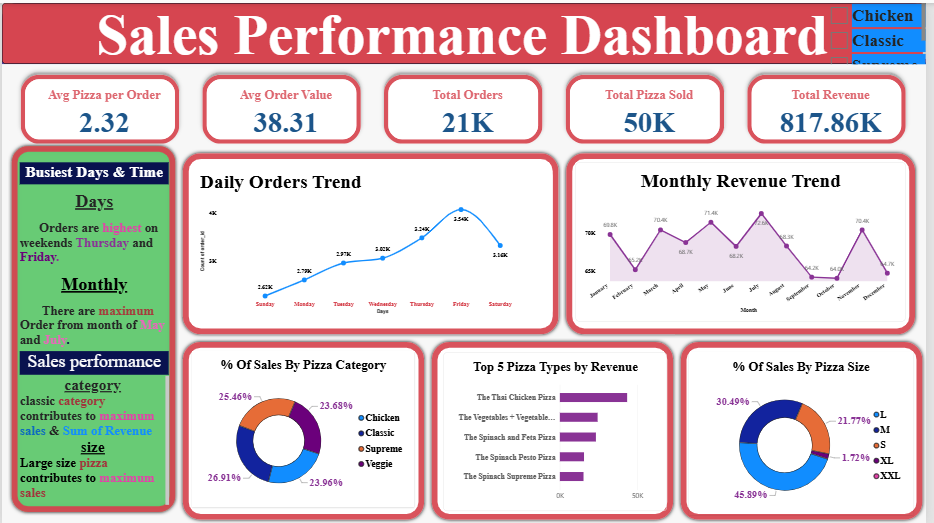

The page's visual inventory and layout, read from the dashboard file:
{"tool":"powerbi","page":{"name":"Sales Performance Dashboard","canvas":[1920,1080],"ordinal":0},"visuals":[{"type":"cardVisual","fields":{"Data":["dominos_db vw_salesperformance.Avg Pizza per Order","dominos_db vw_salesperformance.Avg Order Value","dominos_db vw_salesperformance.Total Orders","dominos_db vw_salesperformance.Total Pizza Sold","dominos_db vw_salesperformance.Total Revenue"]},"box":[0,110.5,1917.8,221.1],"z":0},{"type":"shape","box":[0,0,1920.7,127.4],"z":1000},{"type":"textbox","box":[0,0,1921.1,126.3],"z":2000},{"type":"shape","box":[368,304,796,392],"z":3000},{"type":"lineChart","title":"Daily Orders Trend","fields":{"Category":["dominos_db vw_salesperformance.Day Name"],"Y":["Count(dominos_db vw_salesperformance.order_id)"]},"box":[394.6,332.1,748.2,330.4],"z":4000},{"type":"shape","box":[1164,304,740,392],"z":5000},{"type":"shape","box":[1402.5,695,517.5,385],"z":6000},{"type":"areaChart","title":"Monthly Revenue Trend","fields":{"Category":["dominos_db vw_salesperformance.order_date.Variation.Date Hierarchy.Month"],"Y":["Sum(dominos_db vw_salesperformance.revenue)"]},"box":[1190,331.8,685.5,330.9],"z":7000},{"type":"shape","box":[367.5,695,517,385],"z":8000},{"type":"shape","box":[885,695,517,385],"z":9000},{"type":"pieChart","title":"% Of Sales By Pizza Category","fields":{"Category":["dominos_db vw_salesperformance.category"],"Y":["select","Sum(dominos_db vw_salesperformance.revenue)"]},"box":[394.8,723.7,462,324.7],"z":10000},{"type":"donutChart","title":"% Of Sales By Pizza Size","fields":{"Category":["dominos_db vw_salesperformance.size"],"Y":["Sum(dominos_db vw_salesperformance.revenue)"]},"box":[1426,726,466,338],"z":11000},{"type":"clusteredBarChart","title":"Top 5 Pizza Types by Revenue","fields":{"Category":["dominos_db vw_salesperformance.pizza_name"],"Y":["Sum(dominos_db vw_salesperformance.revenue)"]},"box":[916,726,464,330],"z":12000},{"type":"shape","box":[12.7,288.9,355.7,775.7],"z":13000},{"type":"textbox","box":[36.5,390.5,309.5,334.9],"z":14000},{"type":"textbox","box":[36.5,331.7,309.5,46],"z":15000},{"type":"textbox","box":[36.5,723.8,309.5,49.2],"z":16000},{"type":"textbox","box":[36,774,310,272],"z":17000},{"type":"slicer","fields":{"Values":["dominos_db vw_salesperformance.category"]},"box":[1712.5,0,205,127.5],"z":18000}]}

Visuals, with their boxes in screenshot pixels (x1, y1, x2, y2), scaled from the page's 1920x1080 canvas onto the 934x523 screenshot:
cardVisual - dominos_db vw_salesperformance.Avg Pizza per Order x dominos_db vw_salesperformance.Avg Order Value: [left=0, top=54, right=933, bottom=161]
shape: [left=0, top=0, right=933, bottom=62]
textbox: [left=0, top=0, right=933, bottom=61]
shape: [left=179, top=147, right=566, bottom=337]
"Daily Orders Trend" lineChart: [left=192, top=161, right=556, bottom=321]
shape: [left=566, top=147, right=926, bottom=337]
shape: [left=682, top=337, right=933, bottom=522]
"Monthly Revenue Trend" areaChart: [left=579, top=161, right=912, bottom=321]
shape: [left=179, top=337, right=430, bottom=522]
shape: [left=431, top=337, right=682, bottom=522]
"% Of Sales By Pizza Category" pieChart: [left=192, top=350, right=417, bottom=508]
"% Of Sales By Pizza Size" donutChart: [left=694, top=352, right=920, bottom=515]
"Top 5 Pizza Types by Revenue" clusteredBarChart: [left=446, top=352, right=671, bottom=511]
shape: [left=6, top=140, right=179, bottom=516]
textbox: [left=18, top=189, right=168, bottom=351]
textbox: [left=18, top=161, right=168, bottom=183]
textbox: [left=18, top=351, right=168, bottom=374]
textbox: [left=18, top=375, right=168, bottom=507]
slicer - dominos_db vw_salesperformance.category: [left=833, top=0, right=933, bottom=62]
